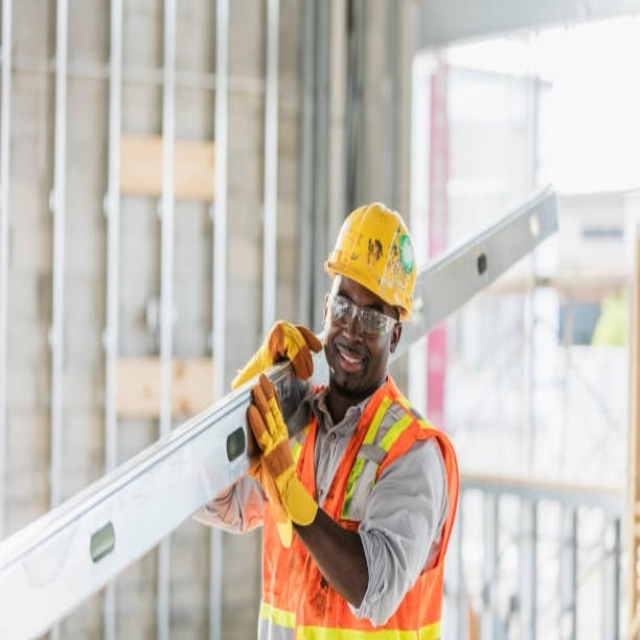Gafas: (327, 292, 398, 338)
Guantes: (246, 372, 321, 551), (231, 315, 322, 394)
Sin_mascara: (330, 339, 370, 383)
